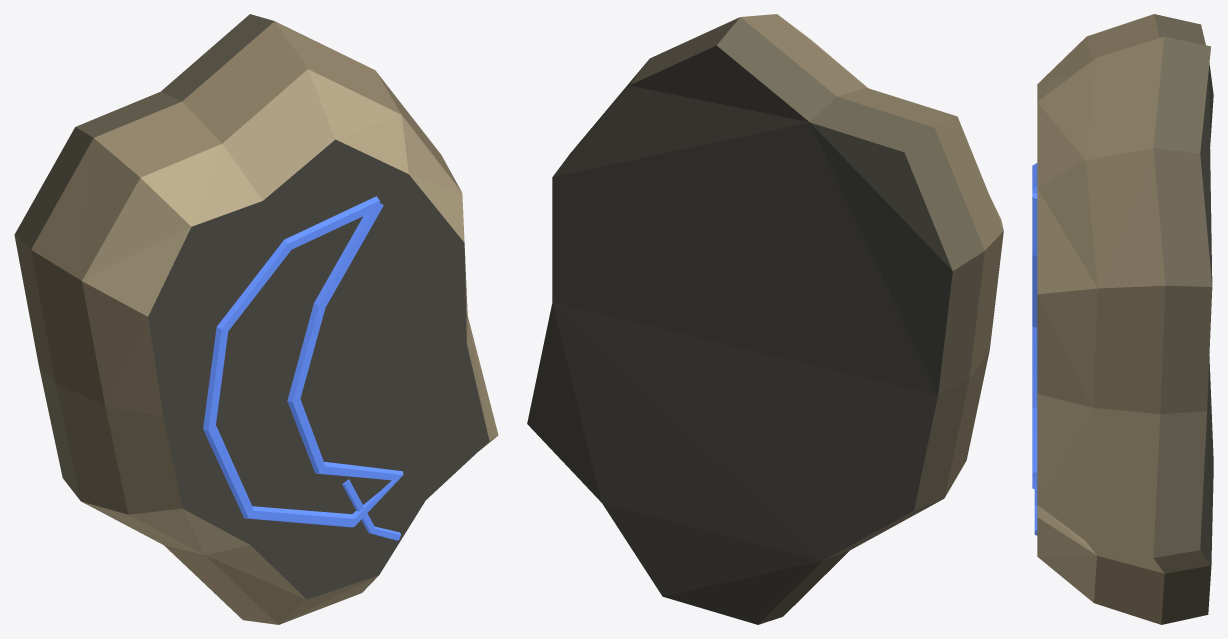
The model's file is FERNSTONE_NIGHT.hi.glb.
3 renders of one model, left to right at view 1: azimuth 30°, elevation 25°; view 2: azimuth 150°, elevation 25°; view 3: azimuth 270°, elevation 25°, orthographic. The views are drawn at different scales.
Parts seen in each view (by area): view 1: Body_Mesh; view 2: Body_Mesh; view 3: Body_Mesh.
Part boxes in pixels (<box>): Body_Mesh: <box>14,14,498,624</box>; Body_Mesh: <box>527,14,1003,624</box>; Body_Mesh: <box>1032,14,1213,624</box>.
Bounding box in the file's own units: 0.2861 × 0.3628 × 0.1048.
Materials: 1 (1 with a texture image).
